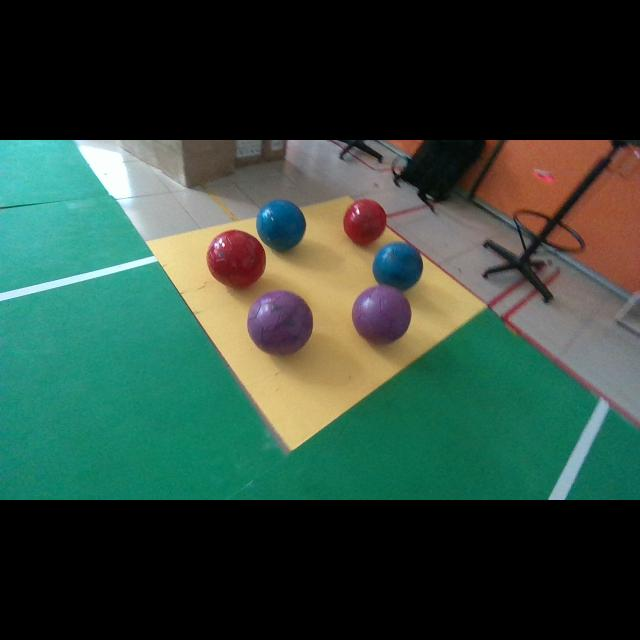B: (372, 242, 422, 291), (258, 200, 306, 251)
P: (248, 290, 312, 354), (352, 285, 411, 344)
R: (206, 230, 266, 287), (344, 199, 386, 244)
